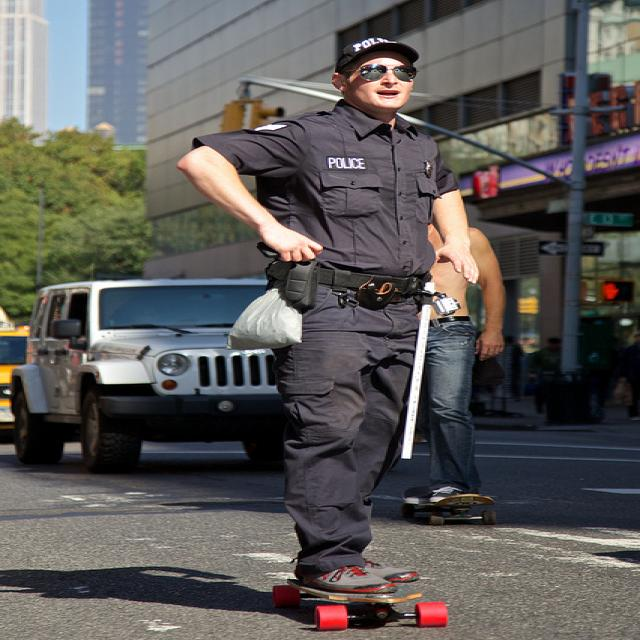Vehicle: (15, 276, 294, 474), (14, 281, 292, 468), (1, 304, 32, 447)
